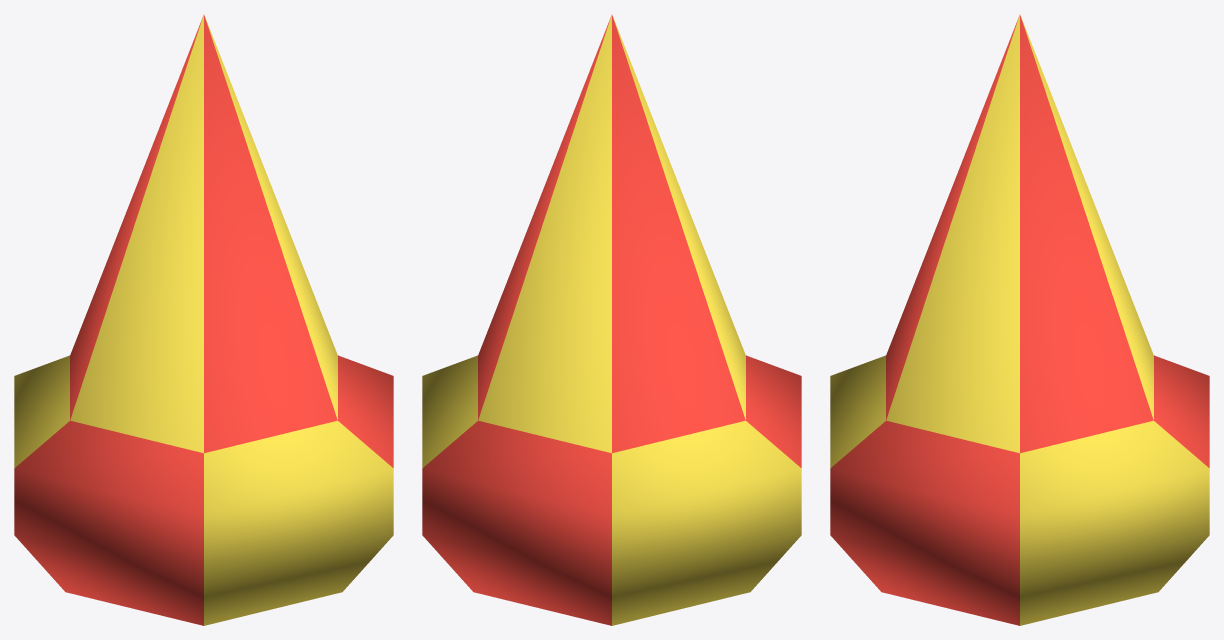
Rendered from toycone.fbx.
3 views of the same model, side by side, from view 1: azimuth 30°, elevation 25°; view 2: azimuth 150°, elevation 25°; view 3: azimuth 270°, elevation 25° (orthographic).
Visible parts, largest first — view 1: Mesh; view 2: Mesh; view 3: Mesh.
Boxes of the visible parts, x1,y1,x2,y2 form: Mesh: [14, 14, 393, 625]; Mesh: [422, 14, 801, 625]; Mesh: [830, 14, 1209, 625].
Bounding box in the file's own units: 36.91 × 54.74 × 31.96.
